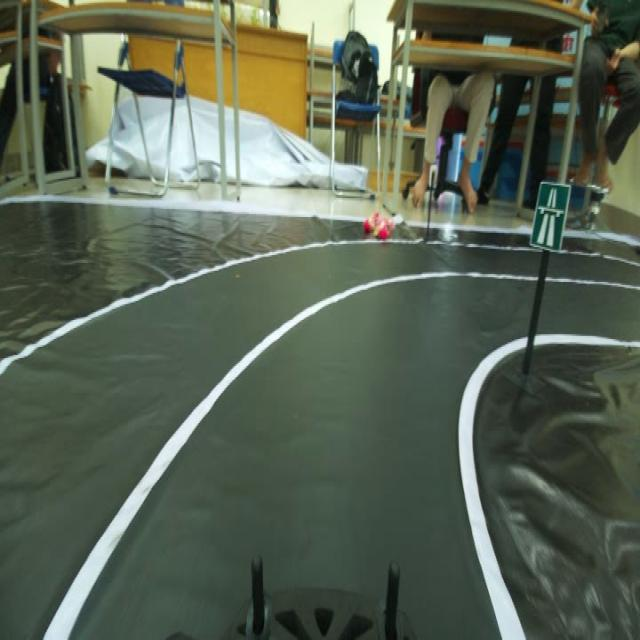highway_entry: (530, 174, 570, 270)
